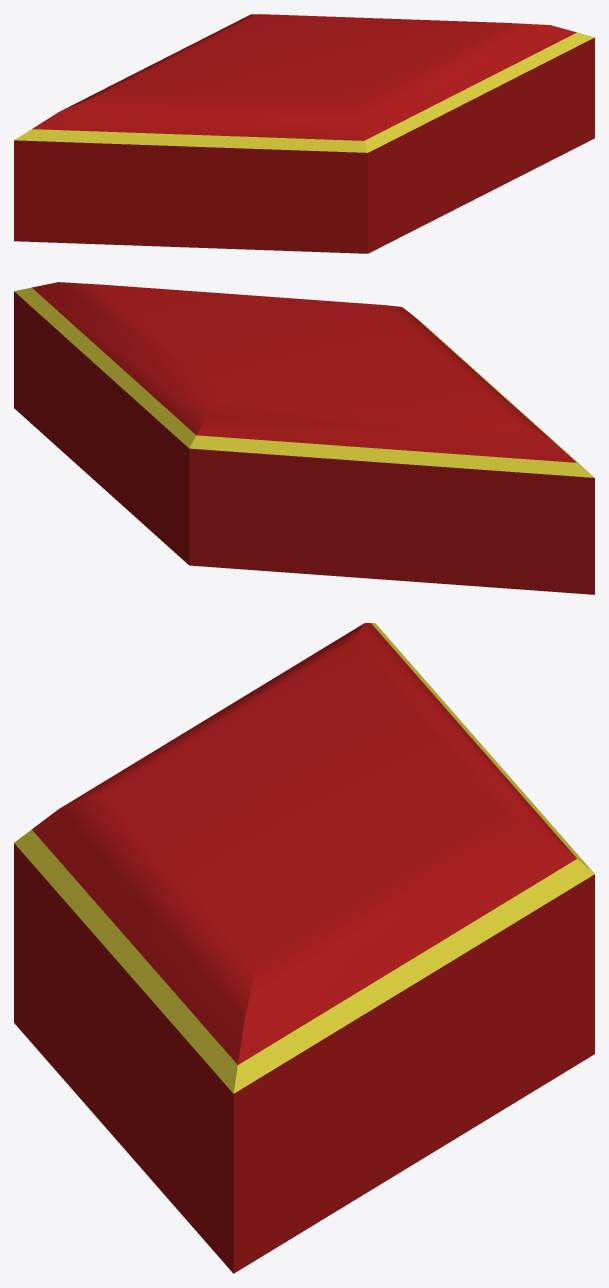
File: book_rock.fbx
The picture shows the model from 3 angles, top to bottom: view 1: azimuth 30°, elevation 25°; view 2: azimuth 150°, elevation 25°; view 3: azimuth 270°, elevation 25°; orthographic projection. The views are drawn at different scales.
Parts seen in each view (by area): view 1: Book_rock; view 2: Book_rock; view 3: Book_rock.
Boxes of the visible parts, <box> form: Book_rock: <box>14,14,594,253</box>; Book_rock: <box>14,282,594,594</box>; Book_rock: <box>14,623,594,1273</box>.
Size of the model in its own units: 0.774 by 0.1793 by 0.4037.
